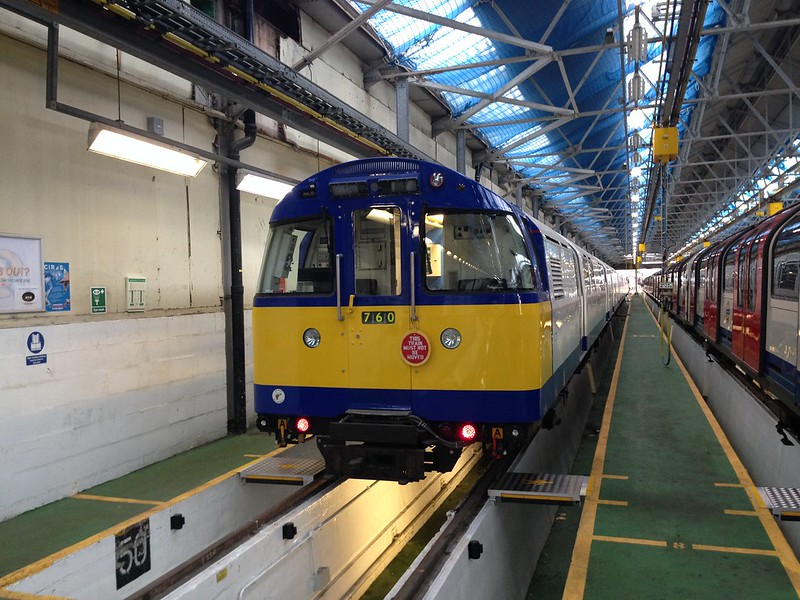train: (227, 91, 627, 443), (644, 251, 800, 427)
